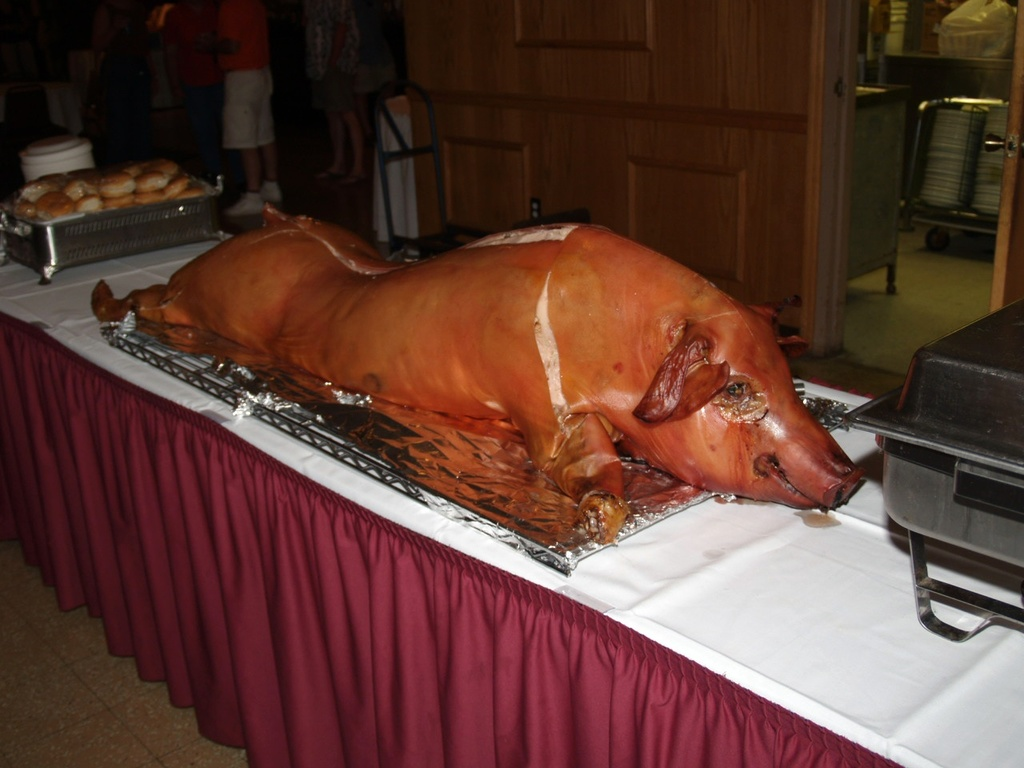person: (81, 0, 167, 166)
